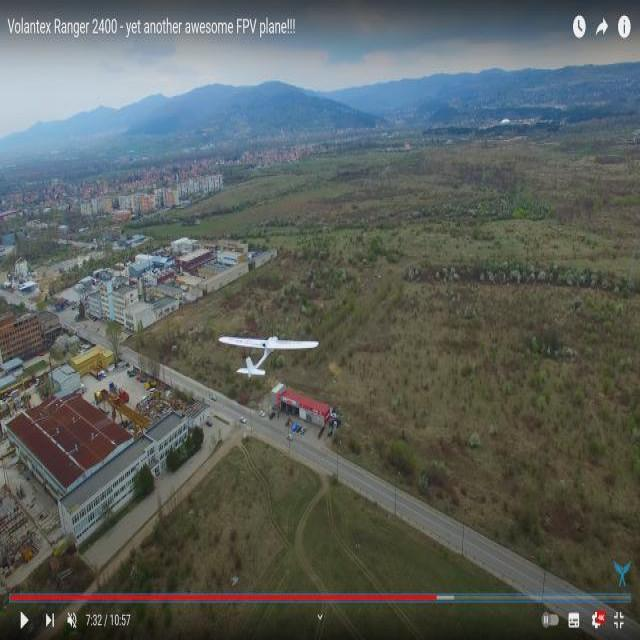iha: (253, 350, 294, 365)
